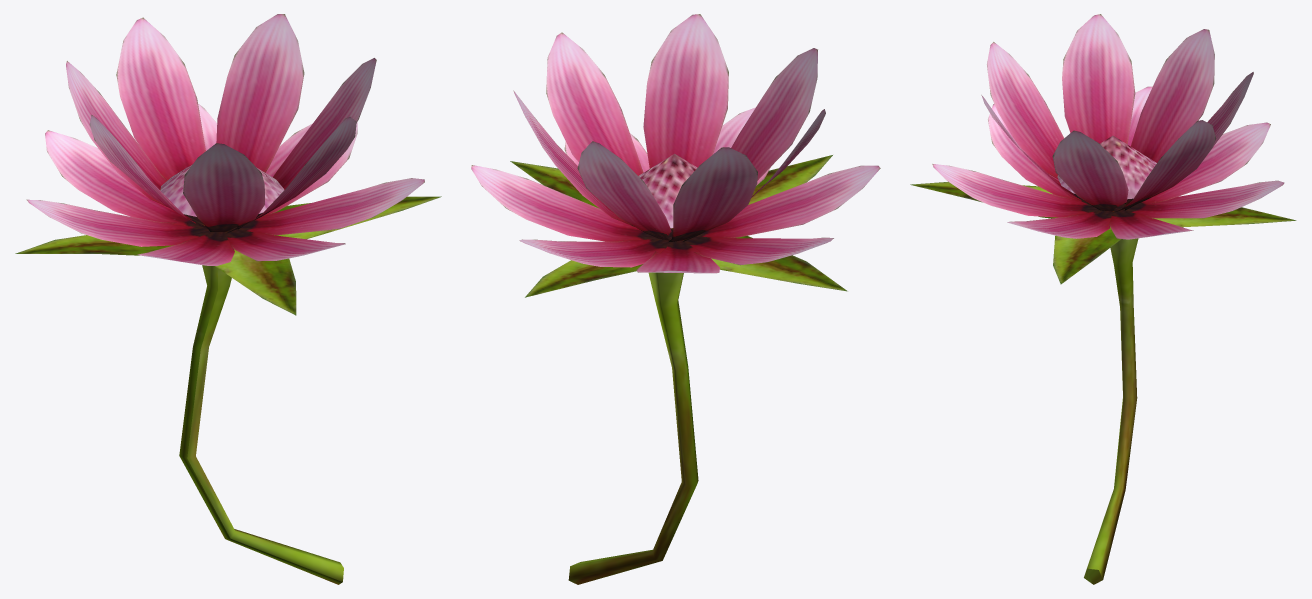
The model's file is Waterlily_Pinkflower.fbx.
3 renders of one model, left to right at view 1: azimuth 30°, elevation 25°; view 2: azimuth 150°, elevation 25°; view 3: azimuth 270°, elevation 25°, orthographic. The views are drawn at different scales.
Visible parts, largest first — view 1: Waterlily_Pinkflower; view 2: Waterlily_Pinkflower; view 3: Waterlily_Pinkflower.
Part boxes in pixels (x1=…): Waterlily_Pinkflower: x1=15, y1=14, x2=441, y2=584; Waterlily_Pinkflower: x1=471, y1=14, x2=880, y2=584; Waterlily_Pinkflower: x1=910, y1=14, x2=1296, y2=584.
Bounding box in the file's own units: 16 × 21.2 × 16.
